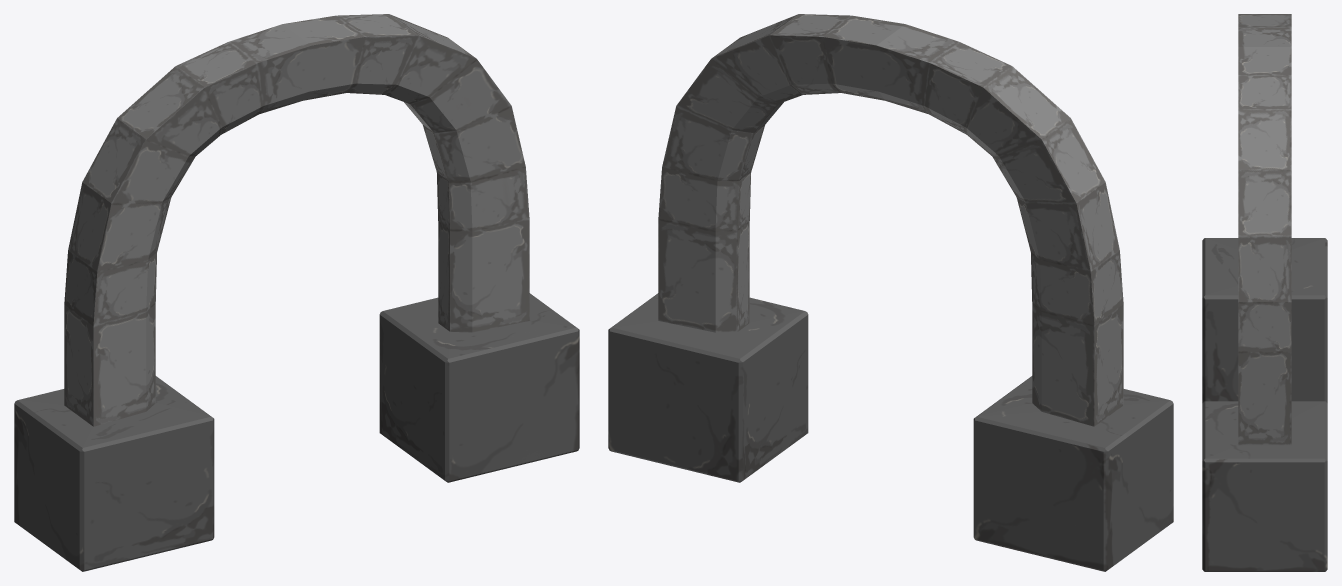
File: stoneArchway.FBX
3 views of the same model, side by side, from view 1: azimuth 30°, elevation 25°; view 2: azimuth 150°, elevation 25°; view 3: azimuth 270°, elevation 25° (orthographic). The views are drawn at different scales.
Parts seen in each view (by area): view 1: villageArchways; view 2: villageArchways; view 3: villageArchways.
Boxes of the visible parts, box(x1,y1,x2,y2) form: villageArchways: box(14, 14, 579, 571); villageArchways: box(608, 14, 1173, 571); villageArchways: box(1202, 14, 1327, 571).
Size of the model in its own units: 285 by 67.48 by 247.
